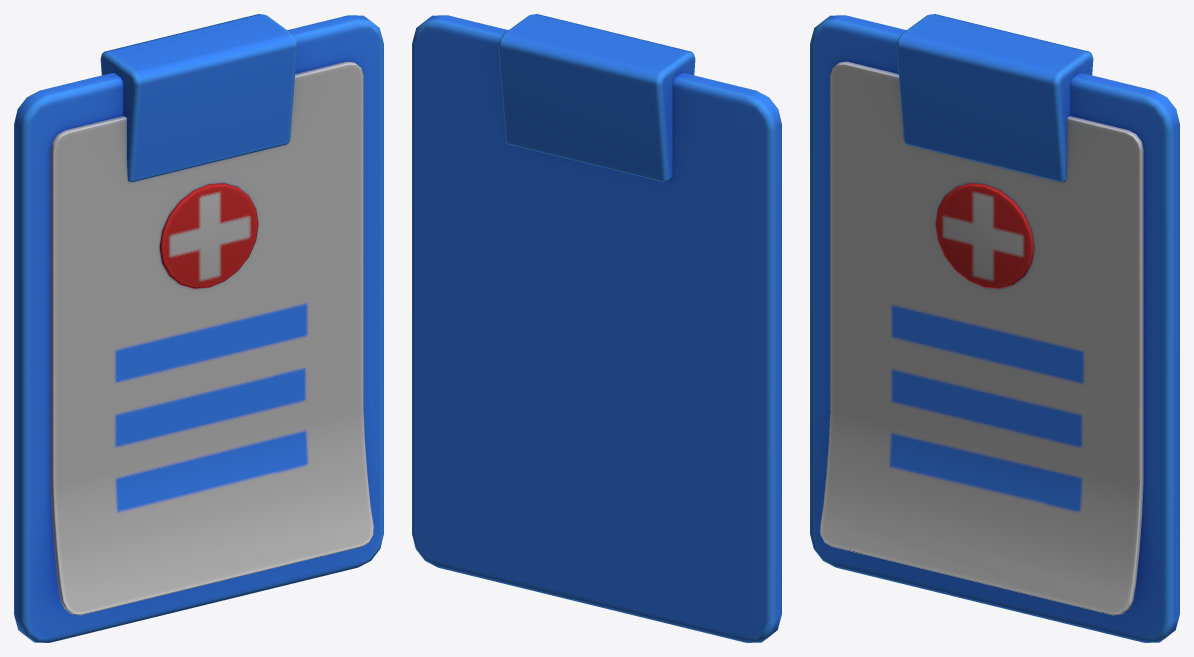
Rendered from medicalrecord_blue.fbx.
3 renders of one model, left to right at view 1: azimuth 30°, elevation 25°; view 2: azimuth 150°, elevation 25°; view 3: azimuth 330°, elevation 25°, orthographic.
Visible parts, largest first — view 1: polySurface3.005; view 2: polySurface3.005; view 3: polySurface3.005.
Boxes of the visible parts, left/top/right/bottom form: polySurface3.005: left=14, top=14, right=383, bottom=642; polySurface3.005: left=412, top=14, right=781, bottom=642; polySurface3.005: left=810, top=14, right=1179, bottom=642.
Bounding box in the file's own units: 0.6791 × 1 × 0.137.
